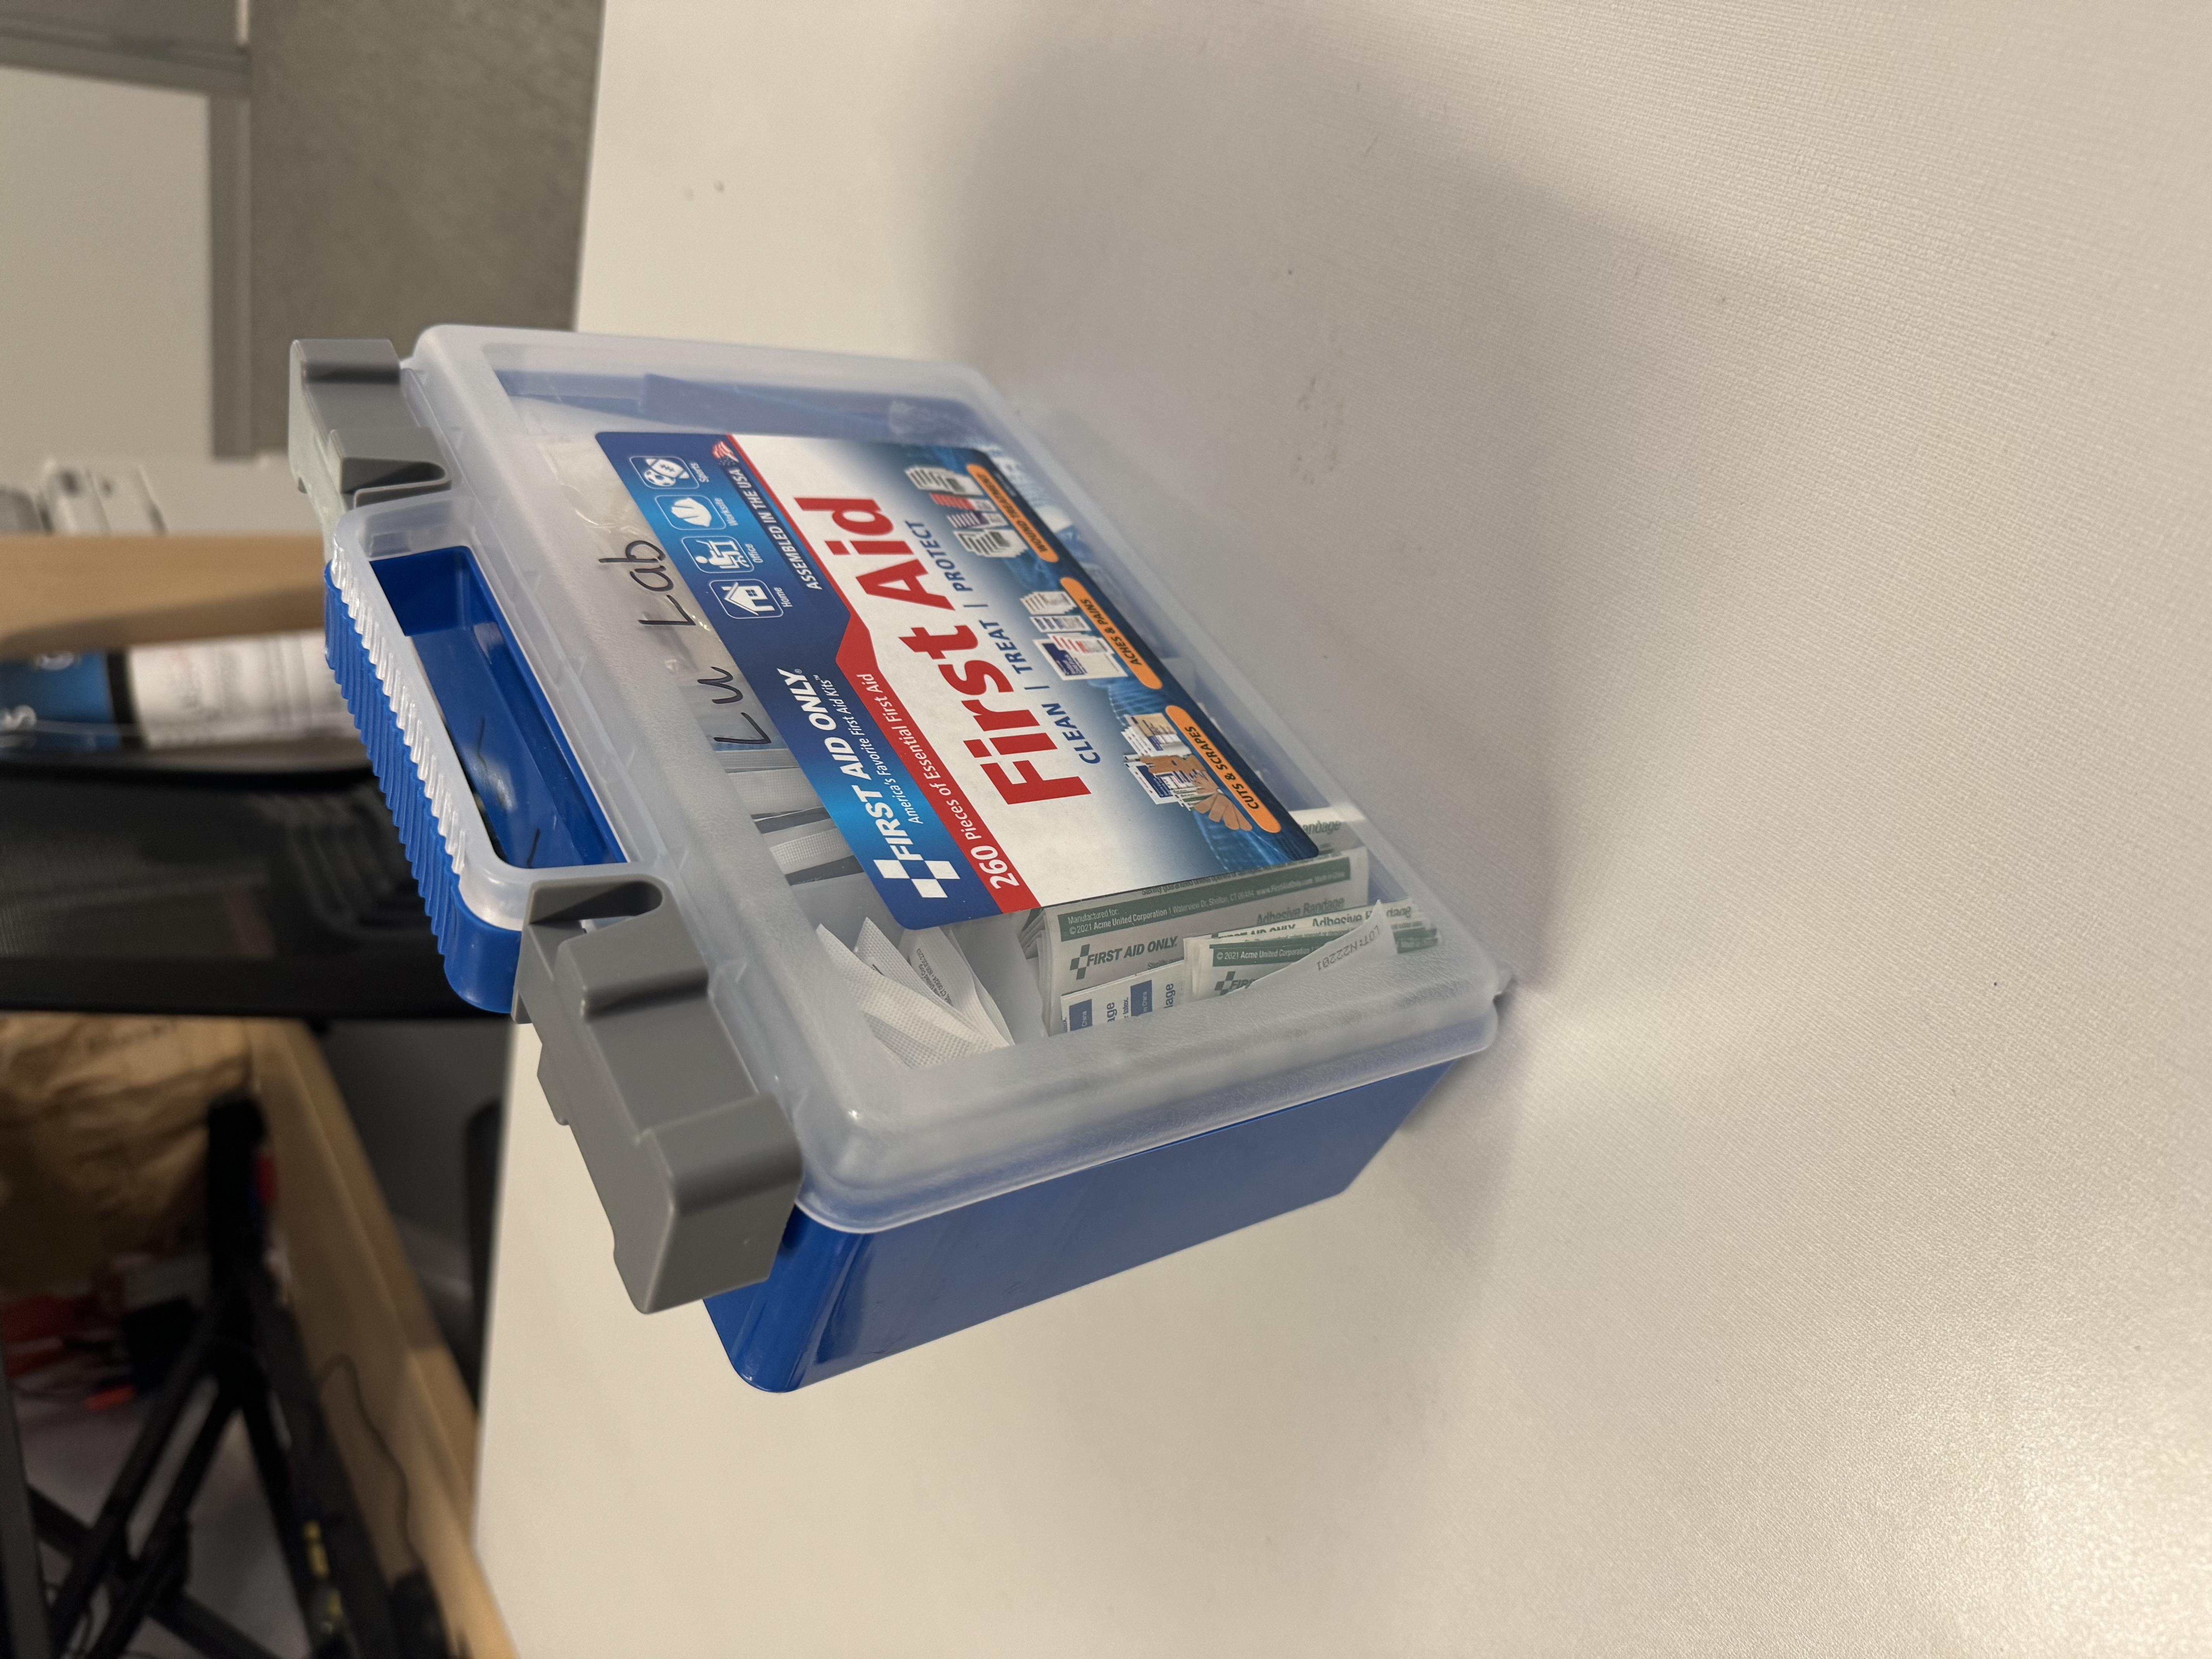first aid kit: (197, 192, 1939, 1188)
